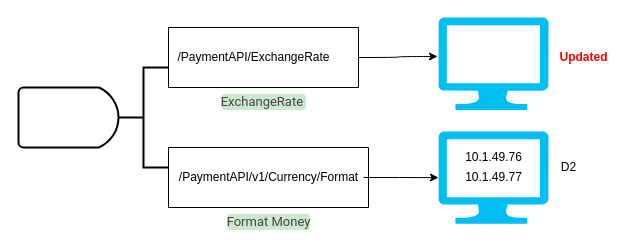
This 630x247 diagram has some shape labels left out. Each missing label, with the centre of its shape:
Old share server ip: pixel 493 63
PaymentApi: pixel 68 117
